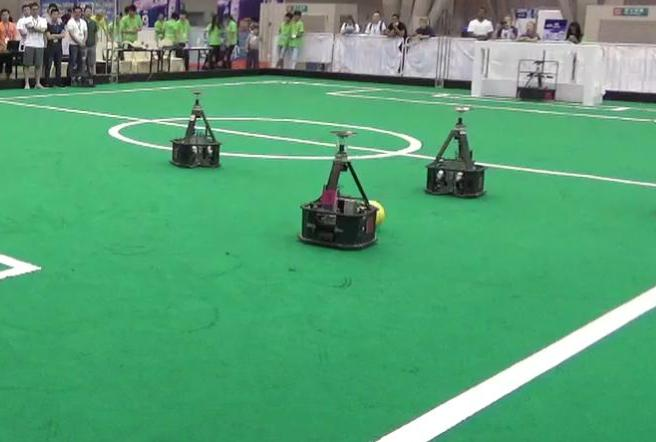robot: (300, 124, 380, 251), (423, 102, 489, 199), (168, 89, 225, 171)
